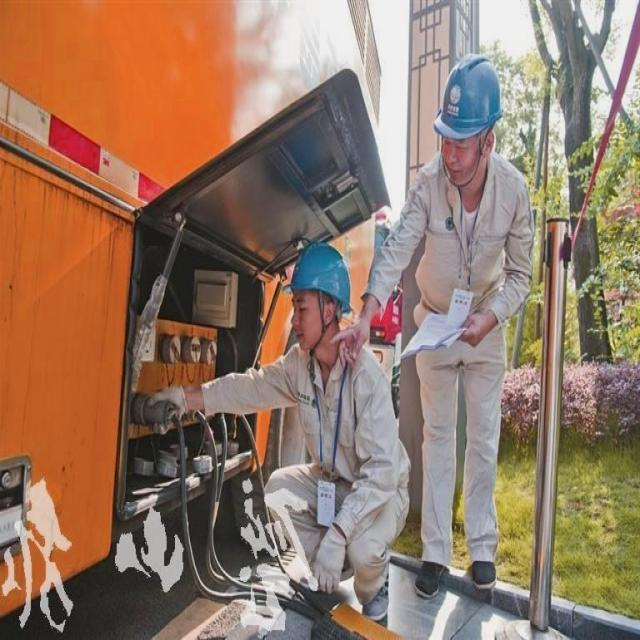face_nomask: (285, 288, 327, 348), (437, 133, 480, 184)
hand_glove: (308, 522, 354, 597), (150, 377, 195, 434)
hand_noglove: (333, 318, 369, 380), (460, 302, 494, 352)
head_helmet: (433, 63, 500, 132), (298, 247, 349, 289)
person: (414, 55, 525, 594), (271, 241, 372, 595)
shoes: (412, 548, 453, 608), (468, 543, 504, 595)
